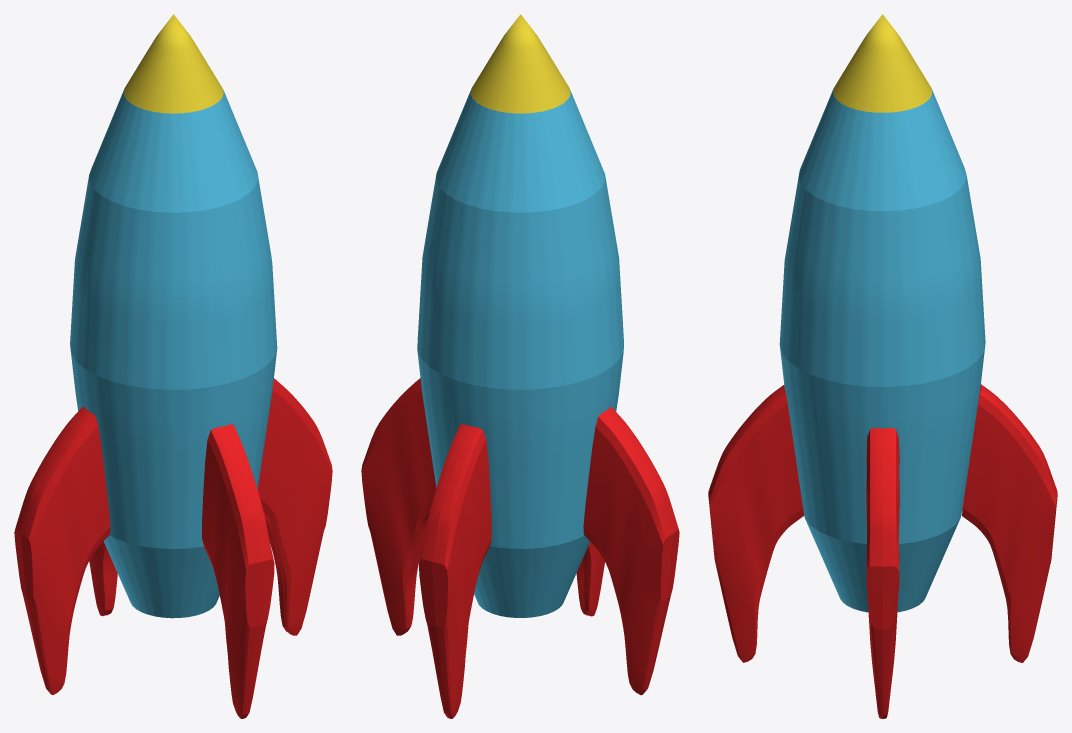
The model's file is rocket.fbx.
3 renders of one model, left to right at view 1: azimuth 30°, elevation 25°; view 2: azimuth 150°, elevation 25°; view 3: azimuth 270°, elevation 25°, orthographic.
Parts seen in each view (by area): view 1: Cylinder; view 2: Cylinder; view 3: Cylinder.
Part boxes in pixels (left/top/right/bottom): Cylinder: left=14, top=14, right=332, bottom=718; Cylinder: left=361, top=14, right=679, bottom=718; Cylinder: left=708, top=14, right=1057, bottom=718.
Size of the model in its own units: 357 by 729 by 357.
